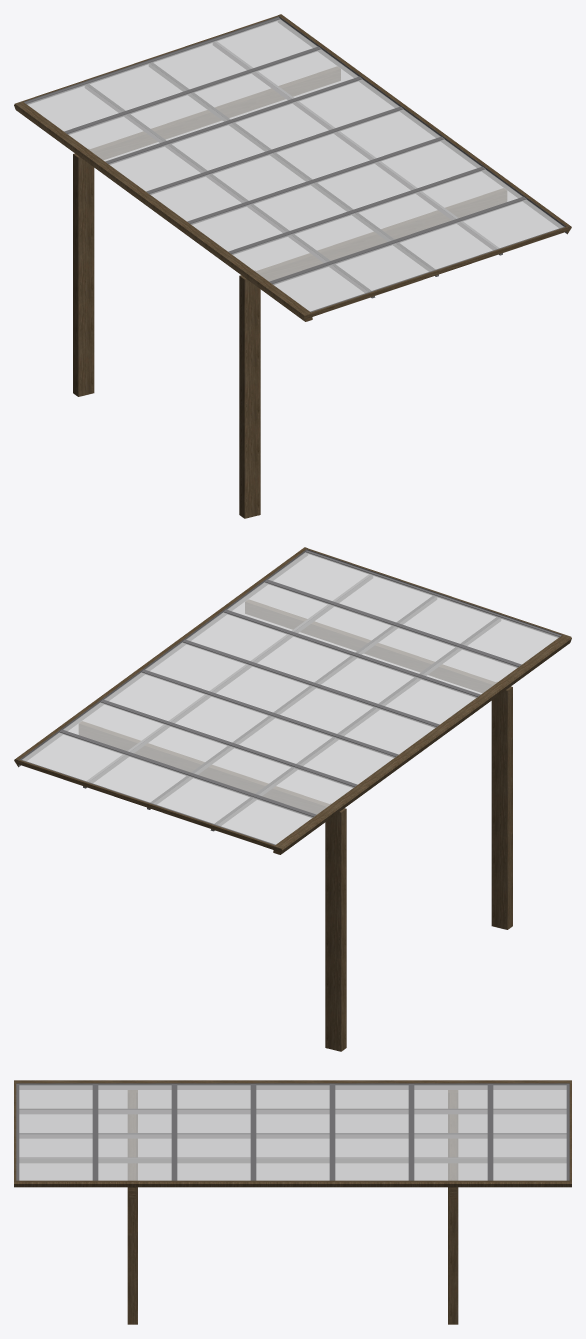
Rendered from 2750-22_brownebony.fbx.
3 renders of one model, top to bottom at view 1: azimuth 30°, elevation 25°; view 2: azimuth 150°, elevation 25°; view 3: azimuth 270°, elevation 25°, orthographic. The views are drawn at different scales.
Visible parts, largest first — view 1: 2750-22brownebony; view 2: 2750-22brownebony; view 3: 2750-22brownebony.
Boxes of the visible parts, bbox=[...] form: 2750-22brownebony: bbox=[14, 14, 571, 518]; 2750-22brownebony: bbox=[14, 547, 571, 1051]; 2750-22brownebony: bbox=[14, 1080, 571, 1324].
Size of the model in its own units: 270 by 260 by 505.
4 materials, 2 textured.
